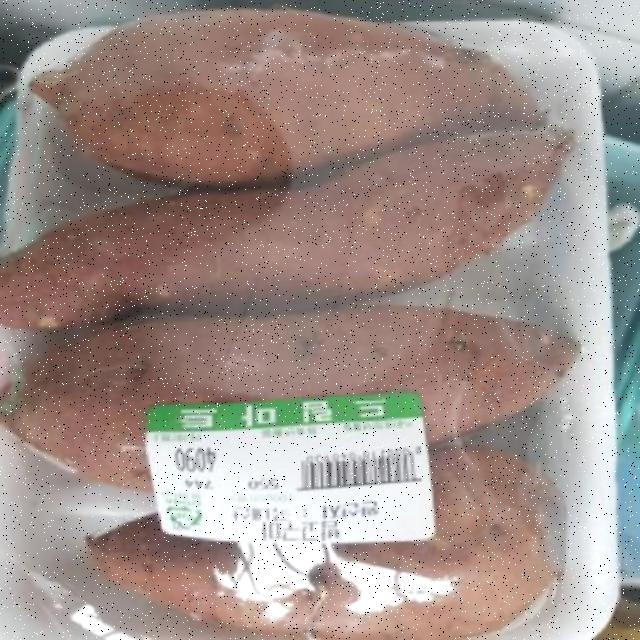Sweet Potato: (2, 20, 610, 638)
